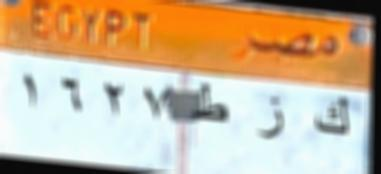1: (14, 69, 42, 114)
2: (98, 77, 128, 117)
6: (60, 74, 83, 113)
7: (140, 82, 175, 123)
Taa: (190, 78, 235, 129)
kaaf: (314, 92, 352, 142)
zay: (252, 90, 292, 146)
